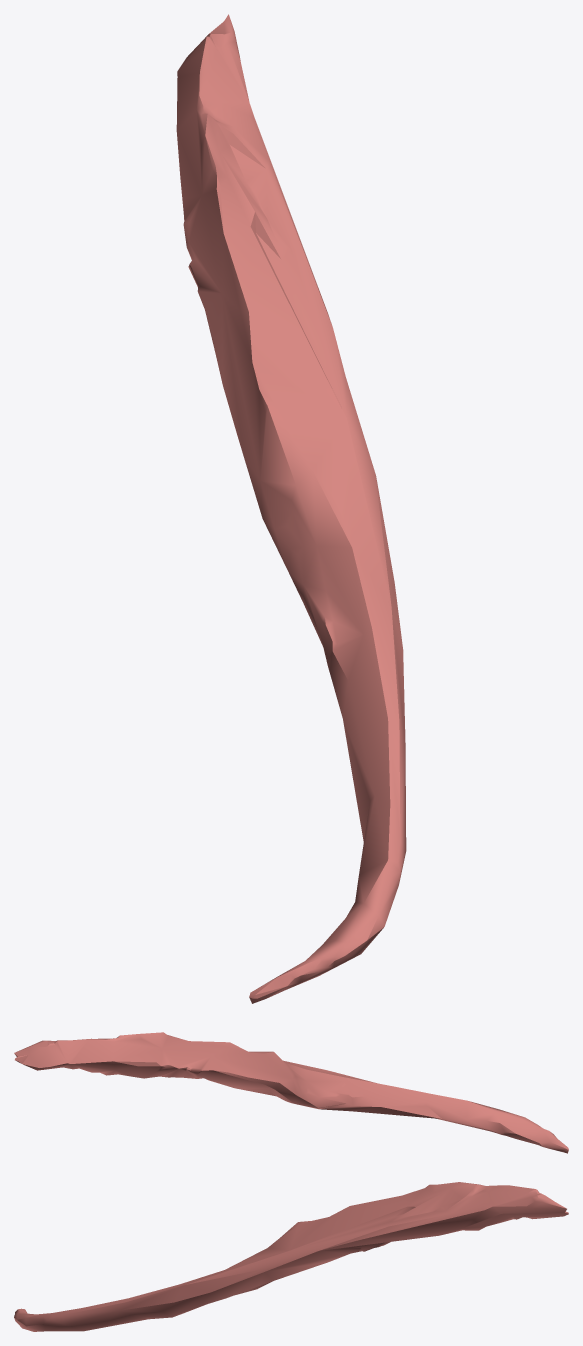
Rendered from fma37745_fj1384.glb.
The picture shows the model from 3 angles, top to bottom: view 1: azimuth 30°, elevation 25°; view 2: azimuth 150°, elevation 25°; view 3: azimuth 270°, elevation 25°; orthographic projection. The views are drawn at different scales.
Visible parts, largest first — view 1: FMA37745_FJ1384; view 2: FMA37745_FJ1384; view 3: FMA37745_FJ1384.
Boxes of the visible parts, bbox=[...] form: FMA37745_FJ1384: bbox=[176, 14, 406, 1003]; FMA37745_FJ1384: bbox=[14, 1032, 568, 1153]; FMA37745_FJ1384: bbox=[14, 1182, 568, 1331].
Size of the model in its own units: 0.027 by 0.0236 by 0.0495.
